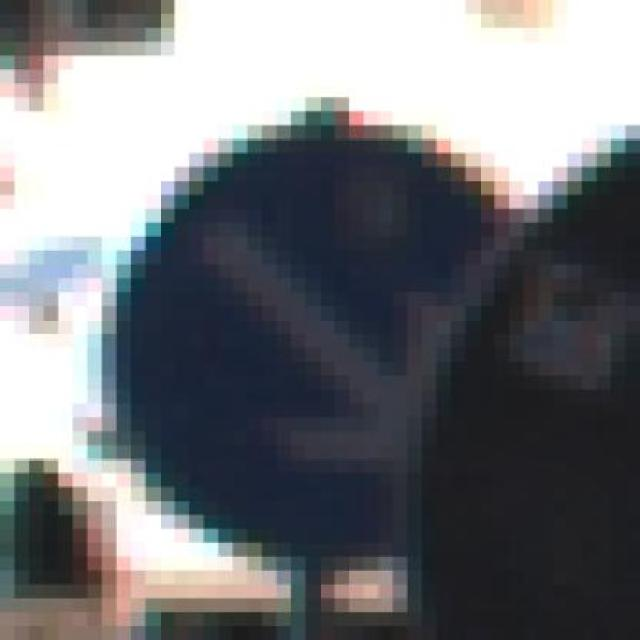Keep-Right: (59, 110, 538, 584)
